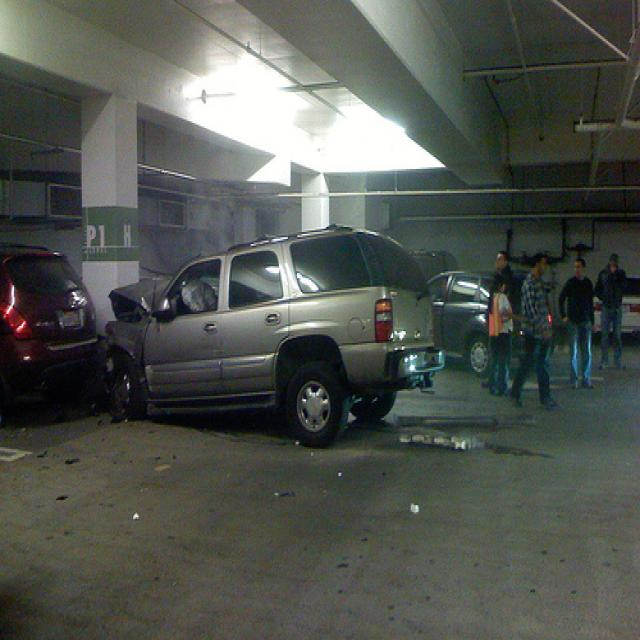Car: (100, 229, 439, 440), (0, 244, 97, 414)
